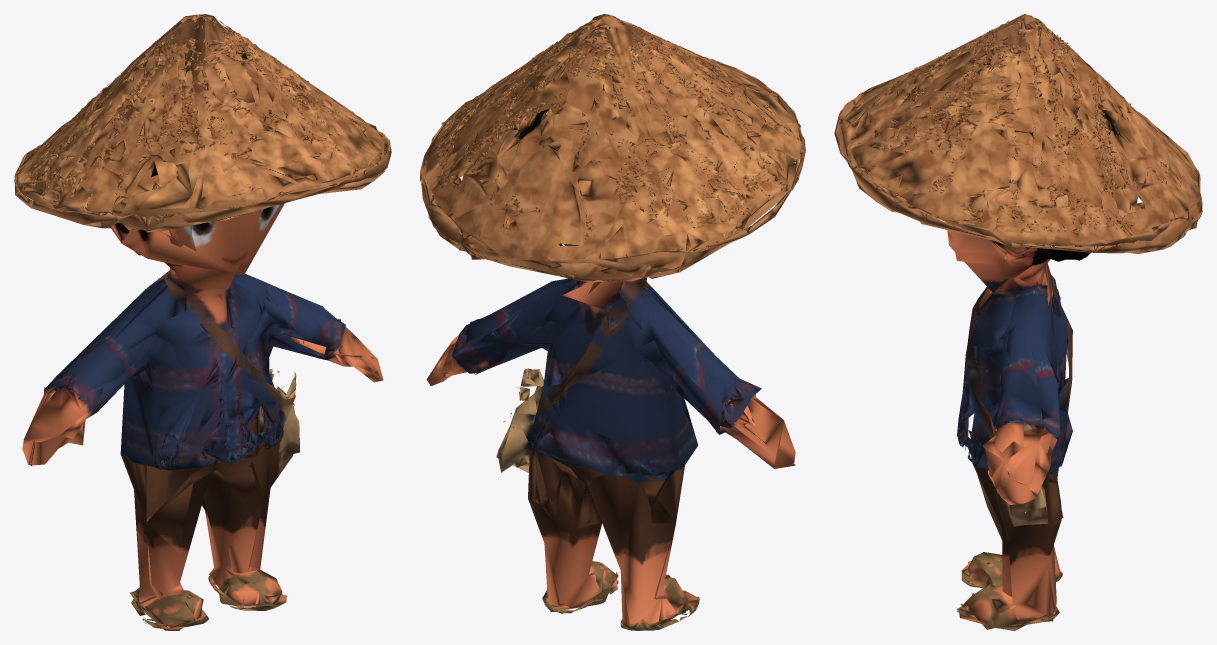
File: khanae_textured.glb
3 views of the same model, side by side, from view 1: azimuth 30°, elevation 25°; view 2: azimuth 150°, elevation 25°; view 3: azimuth 270°, elevation 25° (orthographic). The views are drawn at different scales.
Parts seen in each view (by area): view 1: trellis.001; view 2: trellis.001; view 3: trellis.001.
Part boxes in pixels (x1,y1,x2,y2): trellis.001: [14, 14, 391, 630]; trellis.001: [420, 14, 805, 630]; trellis.001: [834, 14, 1202, 630].
Size of the model in its own units: 0.7609 by 1.2 by 0.6836.
1 material, 1 textured.
